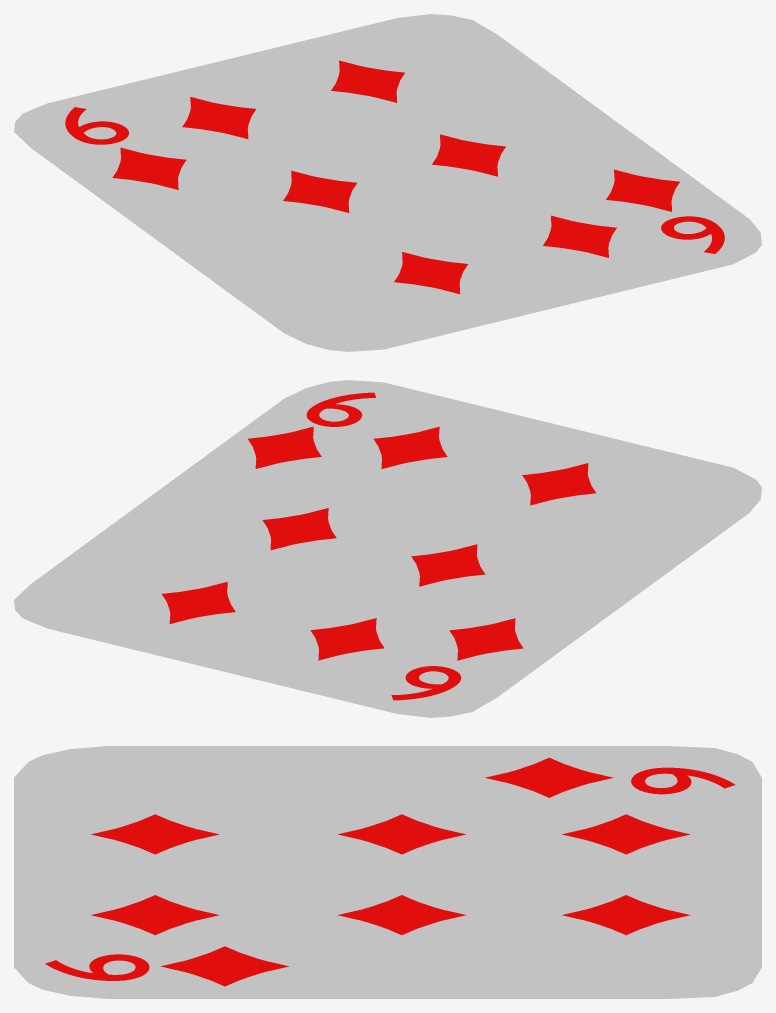
3 renders of one model, top to bottom at view 1: azimuth 30°, elevation 25°; view 2: azimuth 150°, elevation 25°; view 3: azimuth 270°, elevation 25°, orthographic. The views are drawn at different scales.
Parts seen in each view (by area): view 1: 6ofDiamonds, Plane.030_Materia, Plane.027_Materia, Plane.031_Materia, Plane.034_Materia, Plane.028_Materia, Plane.033_Materia, Plane.029_Materia, Plane.032_Materia, Font.011_Bla_Blac.001, Font.012_Bla_Blac.001; view 2: 6ofDiamonds, Plane.033_Materia, Plane.027_Materia, Plane.028_Materia, Plane.030_Materia, Plane.031_Materia, Plane.034_Materia, Plane.032_Materia, Plane.029_Materia, Font.012_Bla_Blac.001, Font.011_Bla_Blac.001; view 3: 6ofDiamonds, Plane.027_Materia, Plane.028_Materia, Plane.032_Materia, Plane.030_Materia, Plane.031_Materia, Plane.029_Materia, Plane.033_Materia, Plane.034_Materia, Font.011_Bla_Blac.001, Font.012_Bla_Blac.001.
Boxes of the visible parts, x1,y1,x2,y2 form: 6ofDiamonds: (14, 14, 761, 351); Plane.030_Materia: (112, 147, 186, 189); Plane.027_Materia: (394, 252, 467, 294); Plane.031_Materia: (331, 60, 404, 102); Plane.034_Materia: (283, 170, 356, 212); Plane.028_Materia: (182, 97, 256, 138); Plane.033_Materia: (432, 134, 505, 176); Plane.029_Materia: (606, 169, 679, 211); Plane.032_Materia: (543, 215, 616, 257); Font.011_Bla_Blac.001: (65, 107, 128, 144); Font.012_Bla_Blac.001: (661, 216, 724, 253); 6ofDiamonds: (14, 380, 761, 717); Plane.033_Materia: (262, 508, 336, 550); Plane.027_Materia: (522, 463, 595, 505); Plane.028_Materia: (310, 618, 384, 660); Plane.030_Materia: (449, 618, 523, 660); Plane.031_Materia: (162, 582, 235, 623); Plane.034_Materia: (411, 544, 485, 586); Plane.032_Materia: (373, 426, 447, 468); Plane.029_Materia: (248, 426, 321, 468); Font.012_Bla_Blac.001: (306, 392, 375, 426); Font.011_Bla_Blac.001: (391, 666, 461, 700); 6ofDiamonds: (14, 746, 761, 998); Plane.027_Materia: (91, 814, 219, 854); Plane.028_Materia: (562, 814, 690, 854); Plane.032_Materia: (91, 895, 219, 935); Plane.030_Materia: (485, 757, 613, 797); Plane.031_Materia: (562, 895, 690, 935); Plane.029_Materia: (161, 946, 288, 986); Plane.033_Materia: (337, 895, 465, 934); Plane.034_Materia: (338, 814, 465, 854); Font.011_Bla_Blac.001: (631, 767, 735, 794); Font.012_Bla_Blac.001: (45, 954, 149, 980).
Bounding box in the file's own units: 1.6 × 0.00974 × 2.
